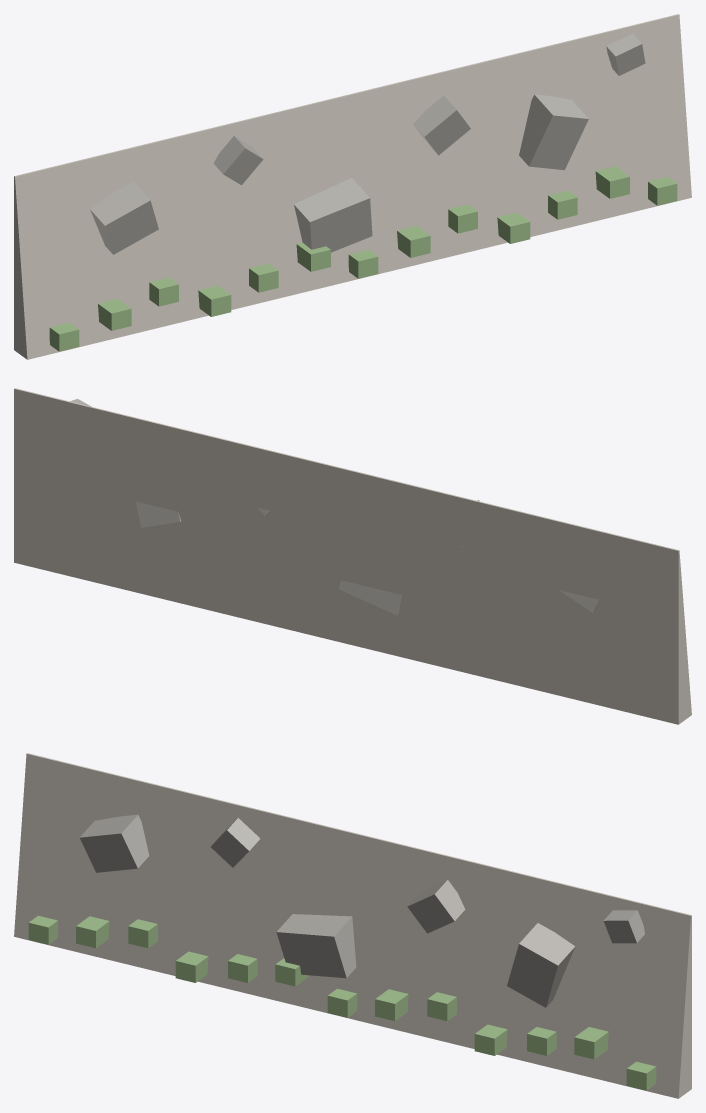
The model's file is r-126-kettle-pond-sand-beach-boulders.glb.
3 views of the same model, one above another, from view 1: azimuth 30°, elevation 25°; view 2: azimuth 150°, elevation 25°; view 3: azimuth 330°, elevation 25° (orthographic).
Parts seen in each view (by area): view 1: sand, boulders, beach-grass; view 2: sand, boulders; view 3: sand, boulders, beach-grass.
Part boxes in pixels (x1=…): sand: x1=14, y1=14, x2=691, y2=359; boulders: x1=90, y1=33, x2=645, y2=254; beach-grass: x1=49, y1=166, x2=677, y2=351; sand: x1=14, y1=388, x2=691, y2=724; boulders: x1=70, y1=398, x2=598, y2=614; sand: x1=14, y1=753, x2=691, y2=1098; boulders: x1=79, y1=814, x2=644, y2=1007; beach-grass: x1=28, y1=915, x2=656, y2=1090.
Size of the model in its own units: 20000 by 5001 by 1426.
